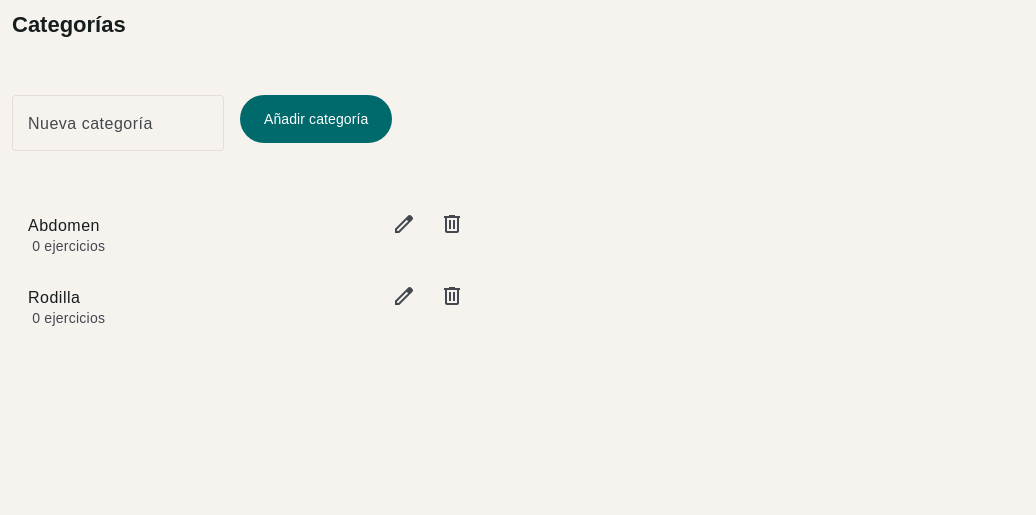
Test: CategoriaGestionComponent › permite editar una categoría y muestra la confirmación junto al elemento
This screenshot has width=1036, height=515.
Click the button named "Editar categoría Abdomen" at [404, 227], box [380,203,428,251]
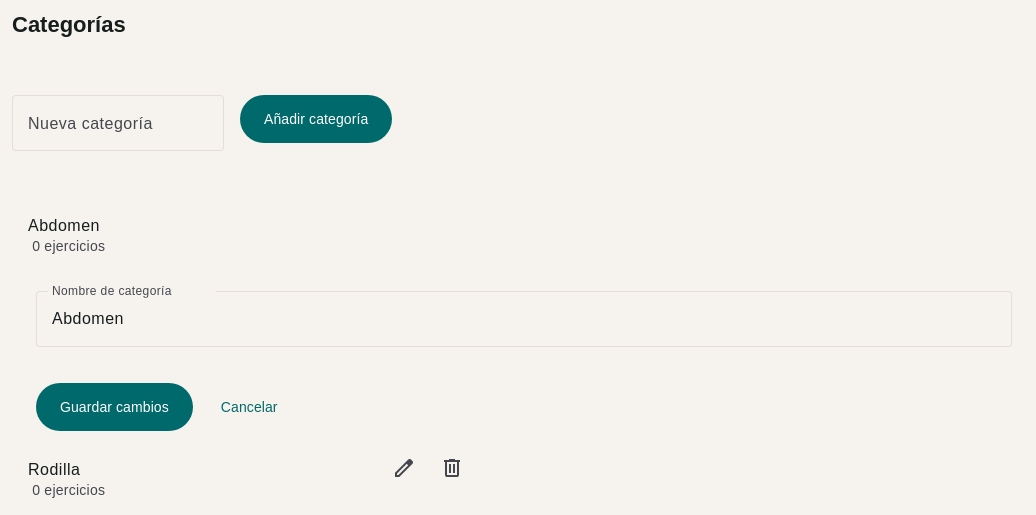
Expected: the text "Abdomen" is shown, [28,217,100,234]
Replace the text in the field labelled "Nombre de categoría" with "Core" at [524, 319], box [52,307,996,331]
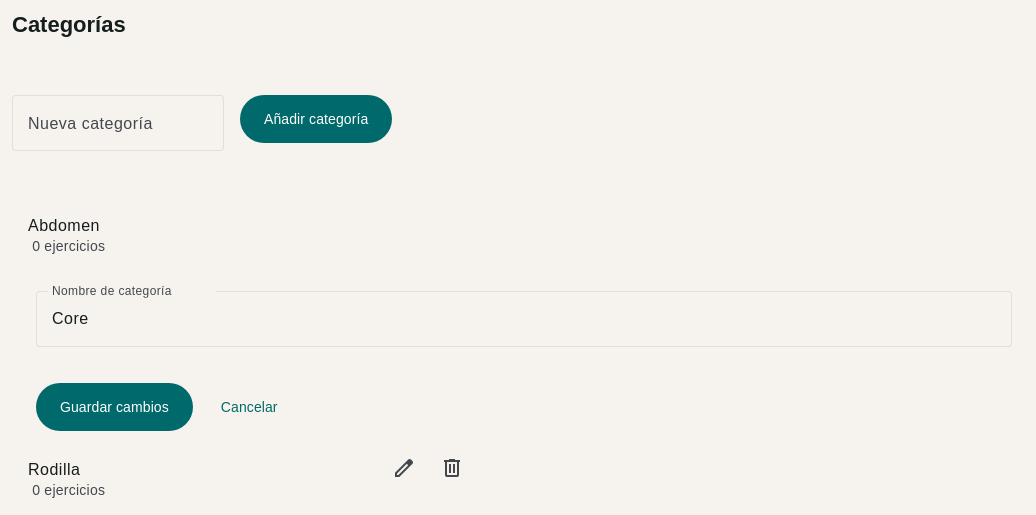
Submit the form named "Editar categoría Abdomen", box [12,275,1035,447]
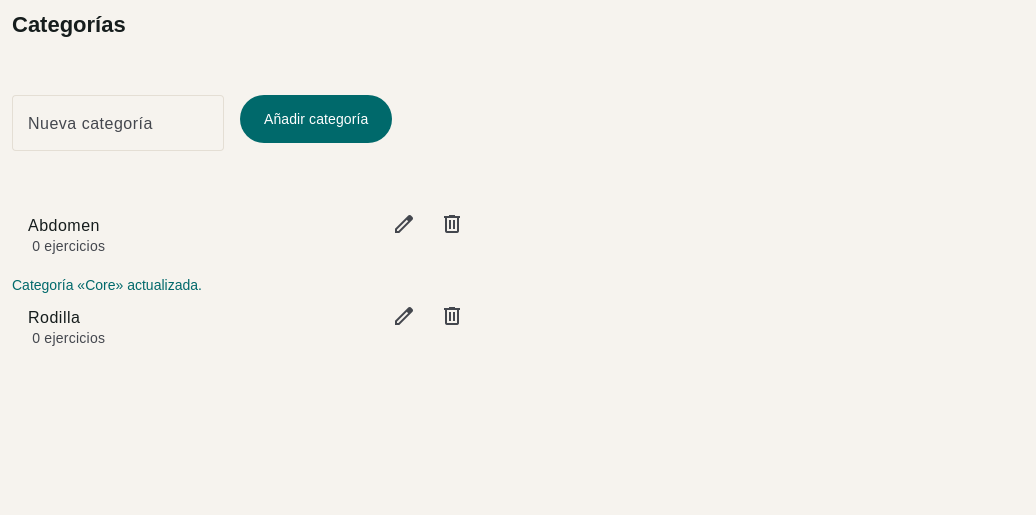
Expected: the message "Categoría «Core» actualizada." is shown, [12,277,202,293]
